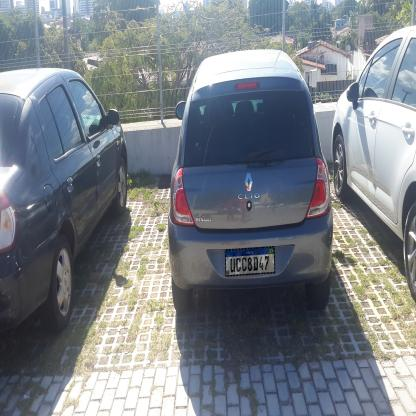PlacaM: (225, 246, 275, 277)
